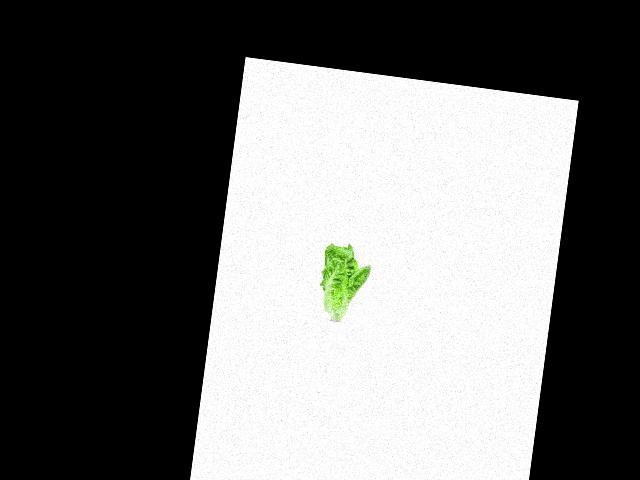lettuce: (313, 239, 374, 321)
